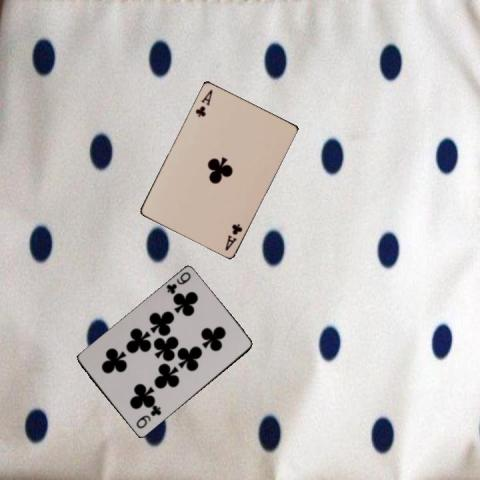9c: (163, 269, 192, 296), (132, 404, 162, 430)
Ac: (192, 86, 214, 118), (222, 221, 243, 252)
